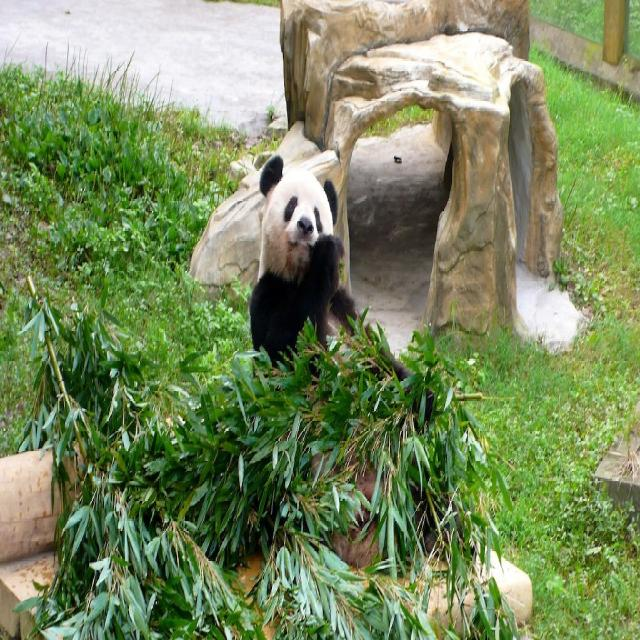panda: (247, 151, 454, 569)
